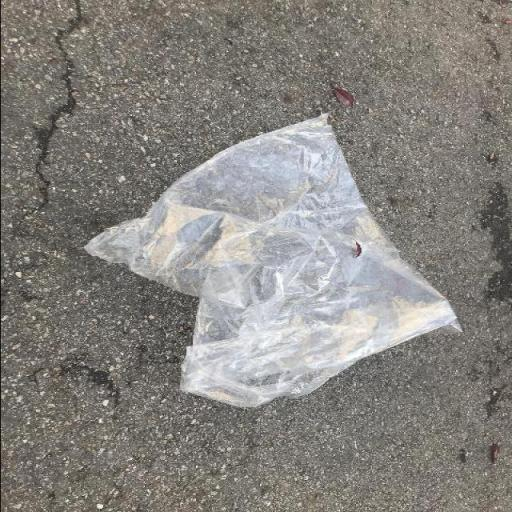plastic-bag: (74, 111, 467, 412)
